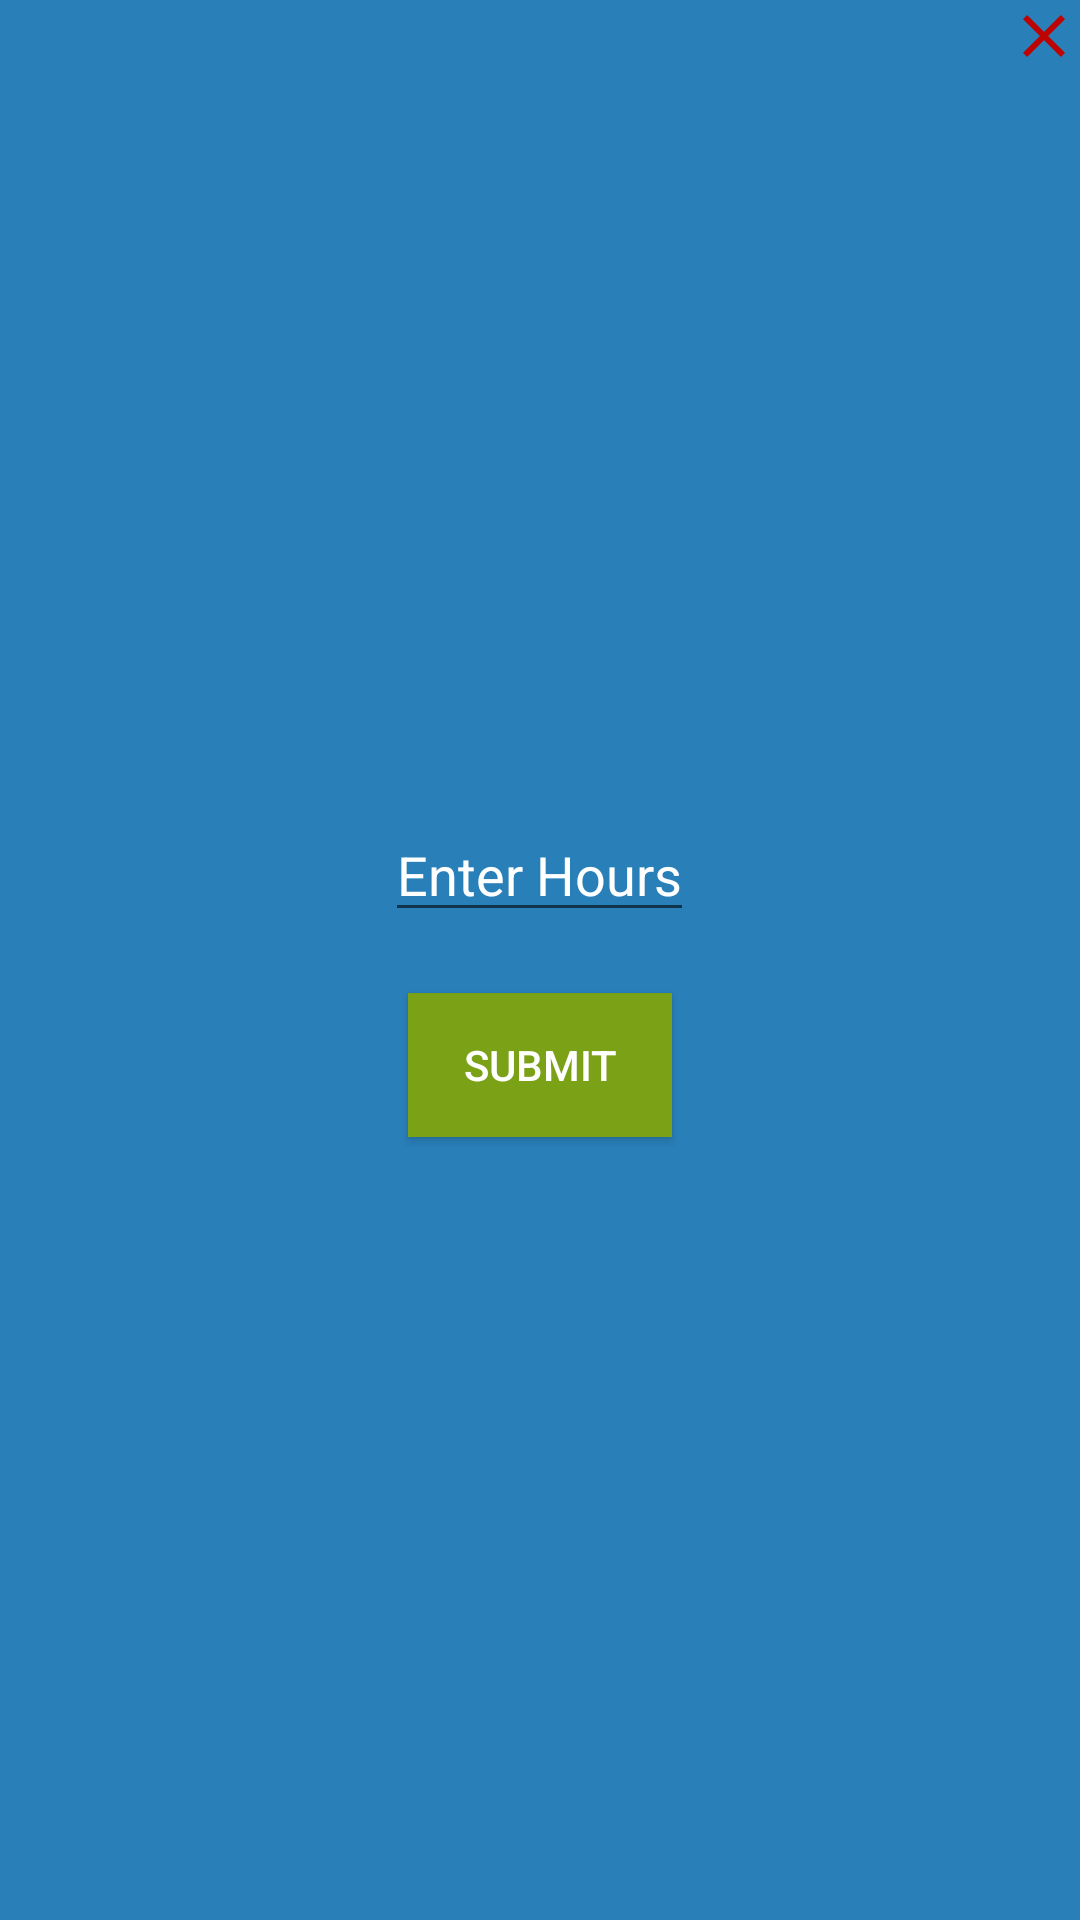

Icon bounding boxes for this 1080 x 1920 phone screenshot, format (x1, y1, x2, y2):
close: (1023, 15, 1065, 57)
